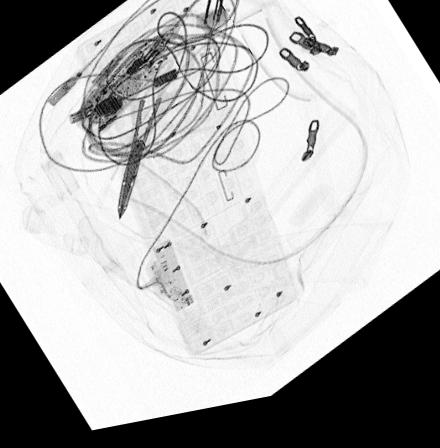Scissors: (116, 54, 197, 226)
